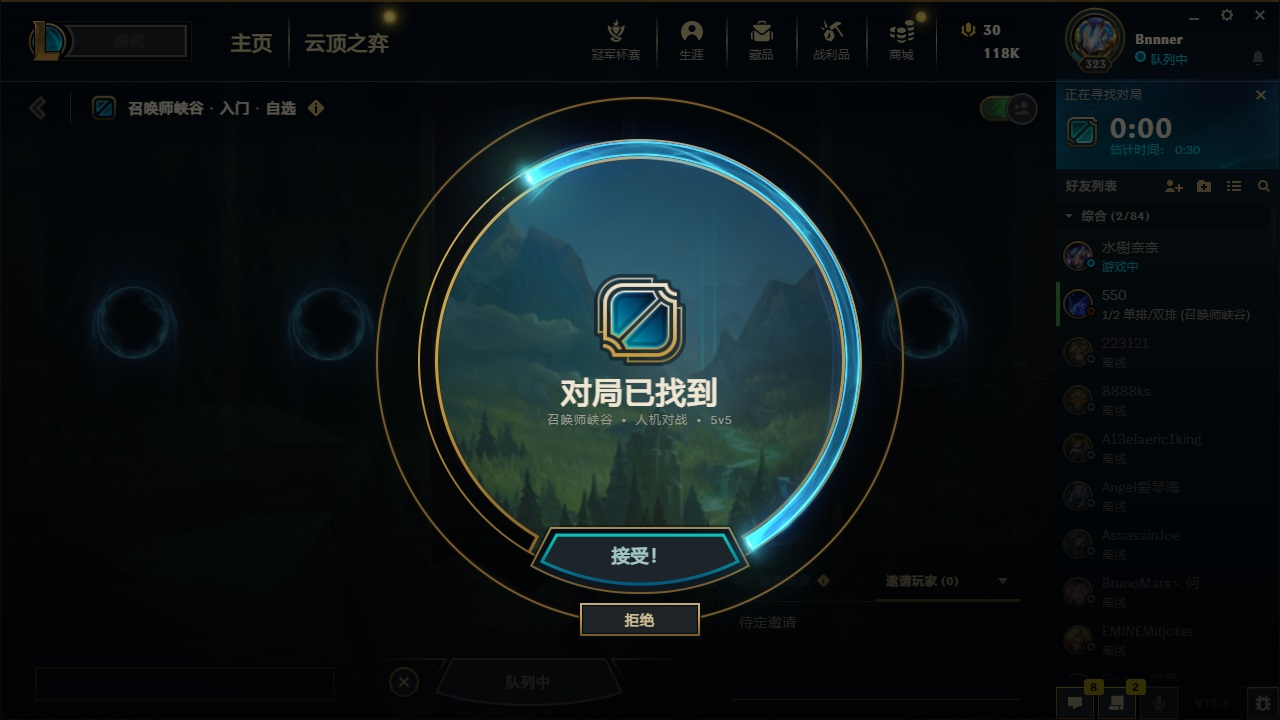JSDJ: (562, 536, 716, 582)
RMRJFJ: (127, 95, 299, 125)
